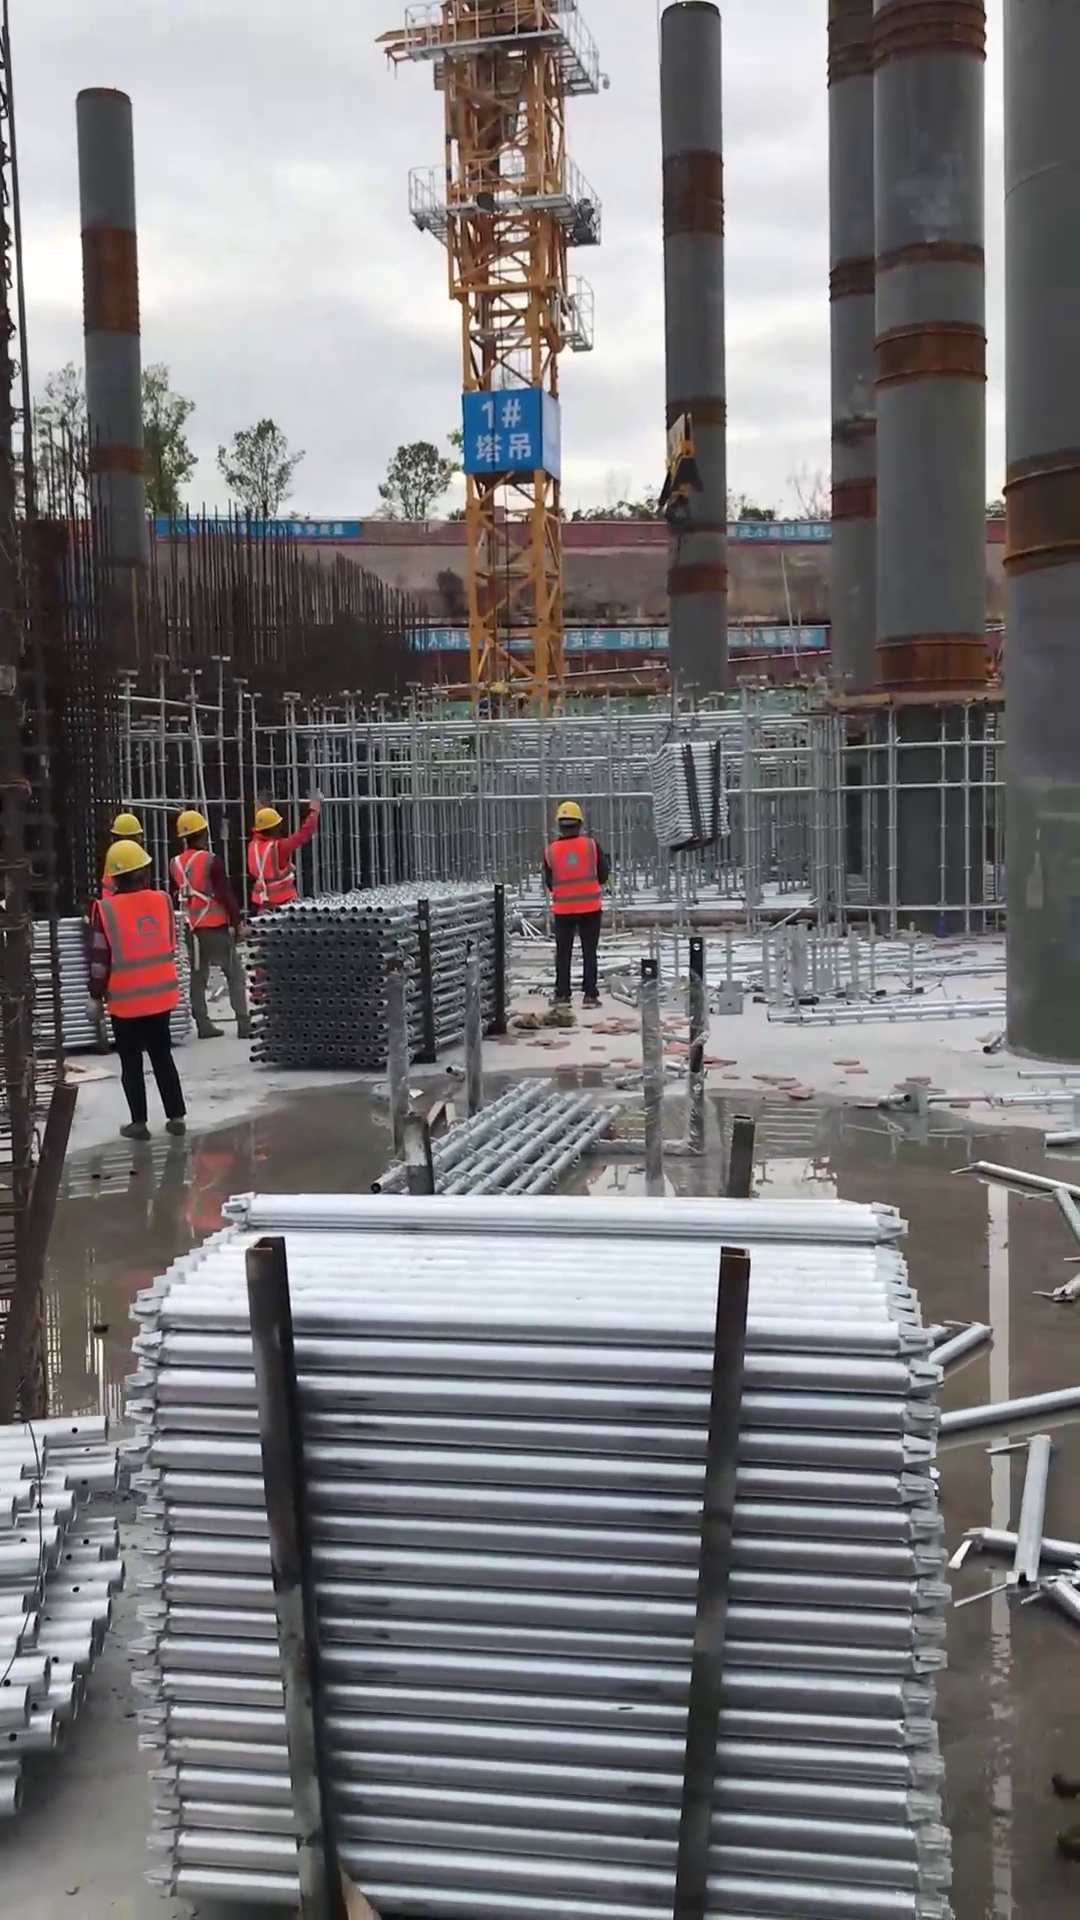helmet: (98, 838, 153, 882), (173, 807, 222, 850), (547, 797, 592, 835), (250, 799, 285, 838), (108, 810, 148, 842)
hook: (652, 408, 721, 532)
person: (75, 836, 206, 1145), (162, 798, 269, 1049), (531, 790, 626, 1015), (240, 778, 329, 930), (95, 800, 158, 907)
scaffold: (122, 1167, 964, 1920), (254, 865, 526, 1091)
slogan: (217, 514, 362, 542), (724, 620, 831, 649), (561, 625, 672, 650), (724, 520, 839, 543)
vest: (89, 888, 184, 1025), (537, 833, 611, 918), (171, 848, 232, 933), (241, 832, 301, 918)
